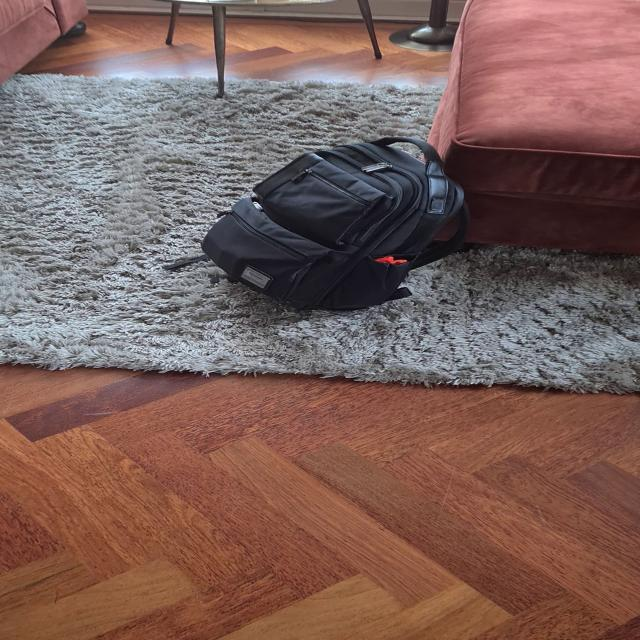backpack: (191, 130, 479, 316)
